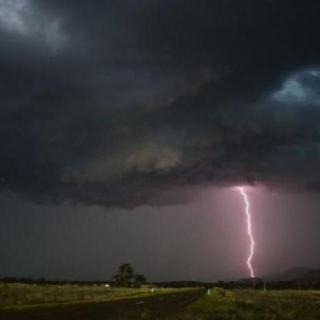Cumulonimbus: (0, 0, 320, 252)
